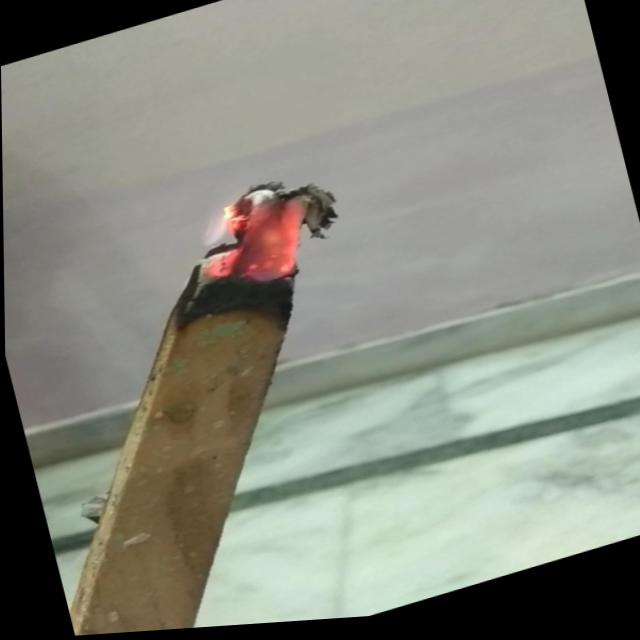fire: (191, 173, 324, 304)
